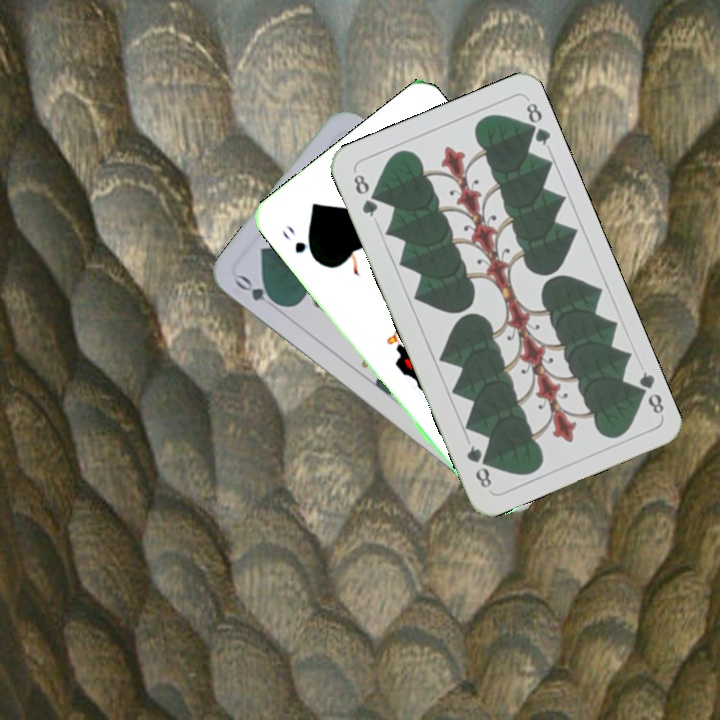G8: (629, 367, 667, 417), (349, 170, 381, 220)
GO: (231, 271, 286, 315), (277, 220, 321, 264)
